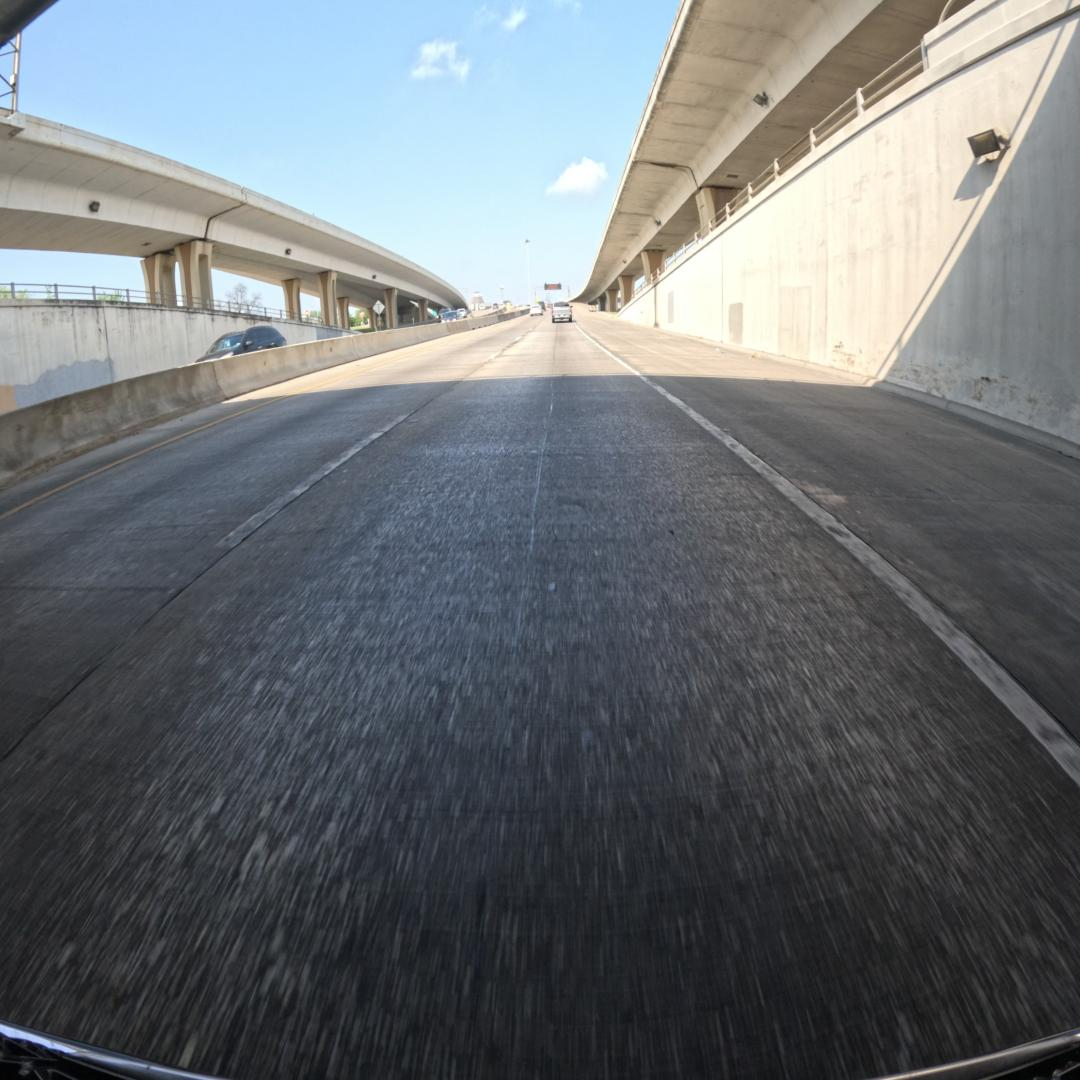lane0: (0, 326, 1080, 1080)
lane1: (0, 324, 526, 759)
